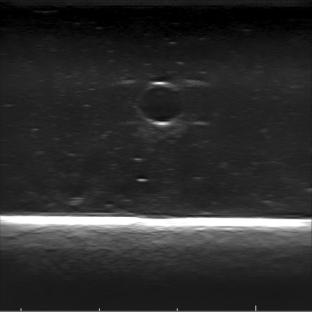vessel: (136, 81, 189, 128)
